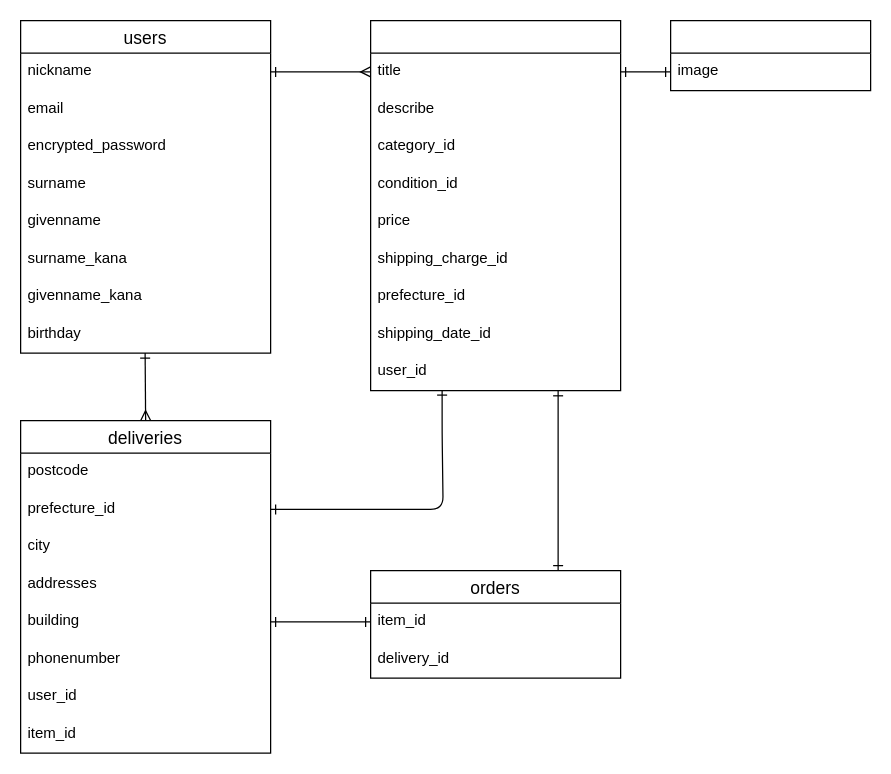
This 891x774 diagram has some shape labels left out. Here are the shapes that lost their labels. From the top down, the box of each, then its label:
(669, 19, 871, 91): ActiveStorage
(369, 19, 621, 391): items
